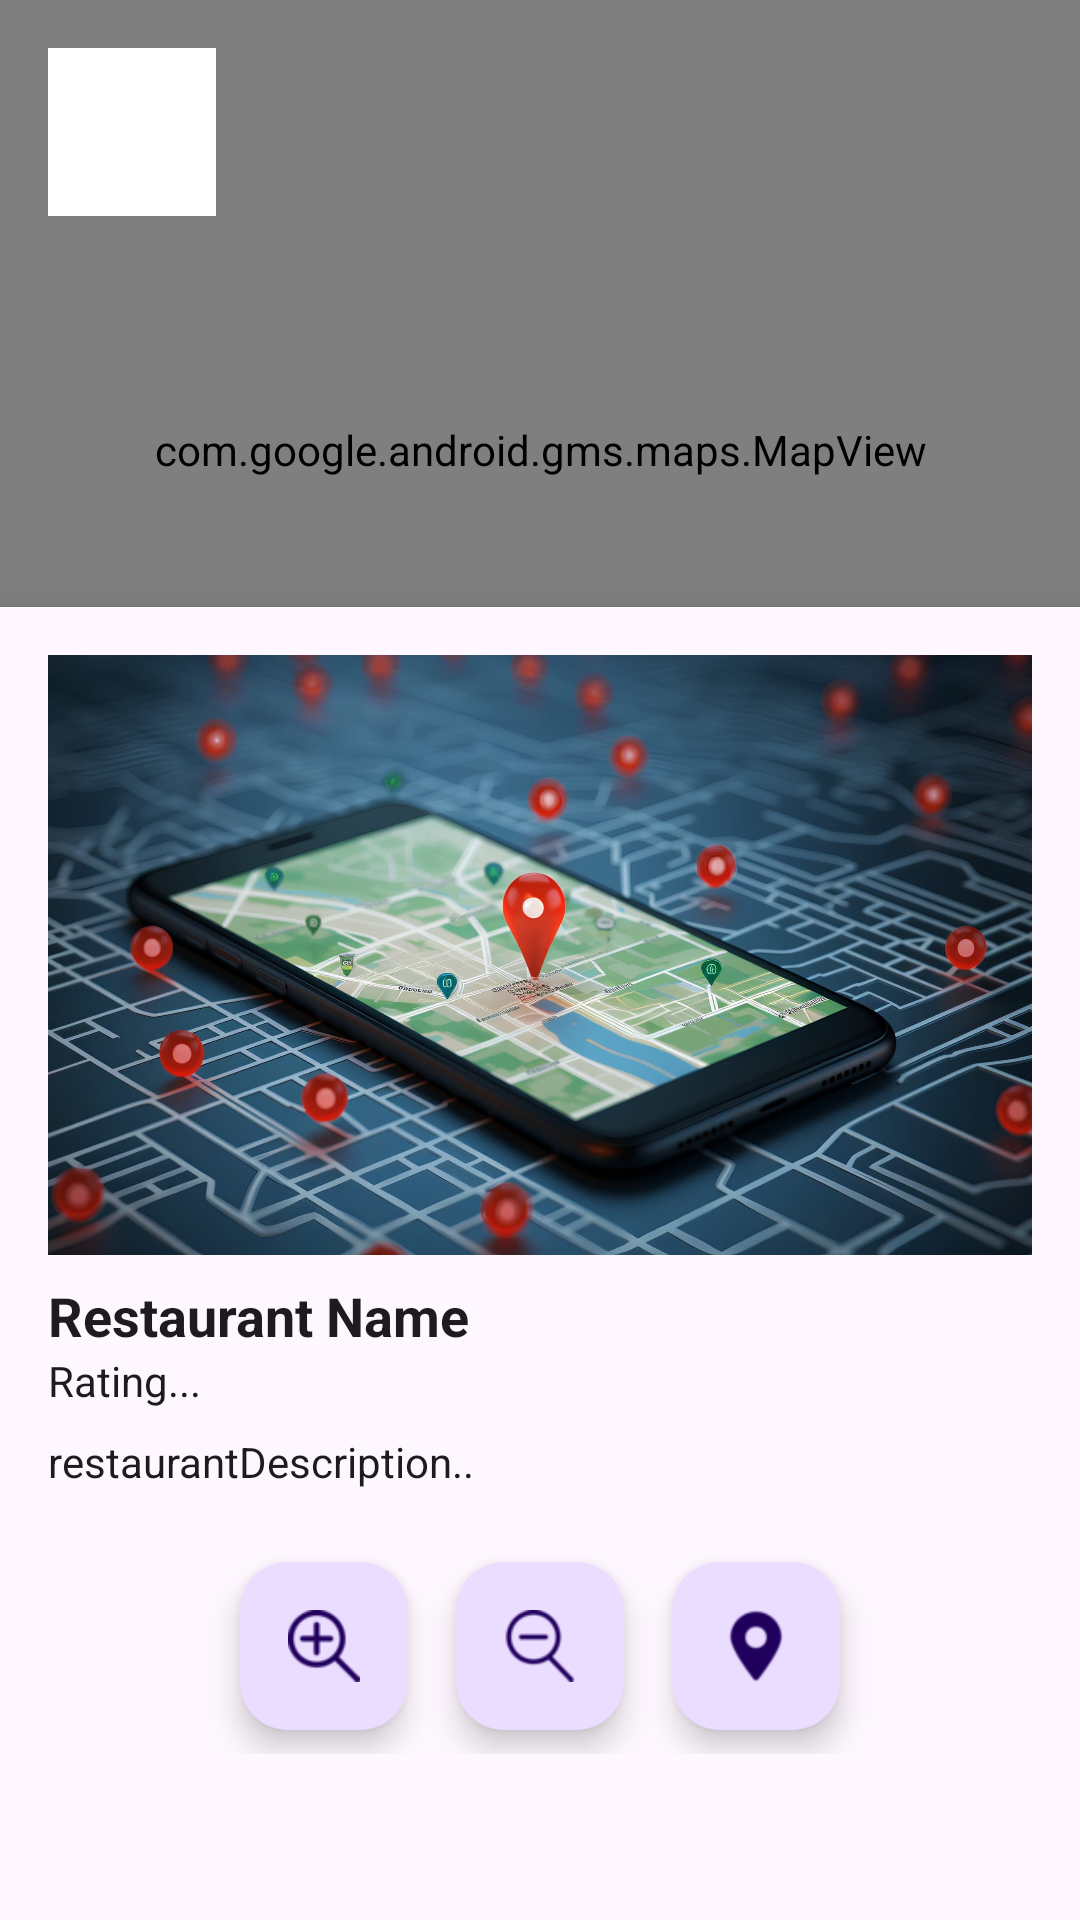

Icons on this 1080 x 1920 Android screen, each with its box as Rect(x1, y1, x2, y2):
location: Rect(672, 1562, 840, 1730)
Zoom In: Rect(240, 1562, 408, 1730)
Zoom Out: Rect(456, 1562, 624, 1730)
